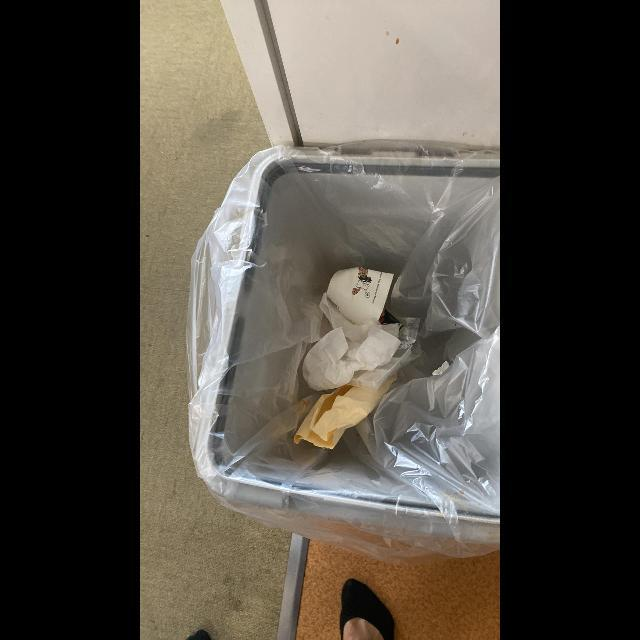paper: (302, 293, 402, 392), (319, 267, 394, 329)
wrapper: (293, 374, 397, 450)
